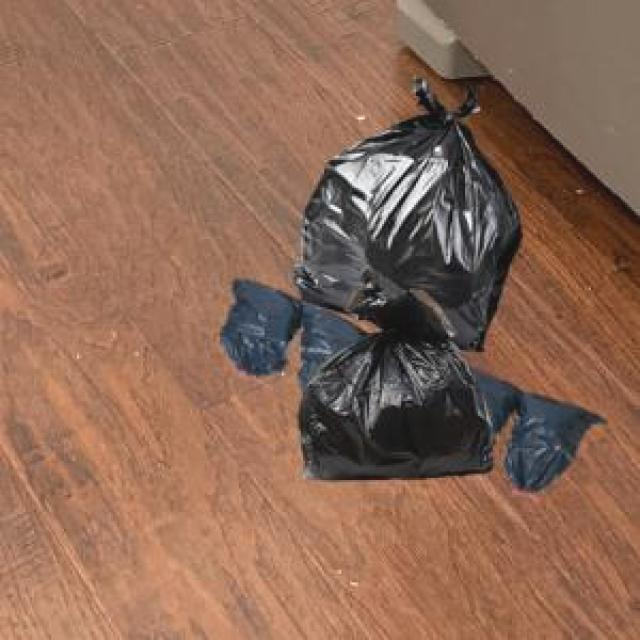Trashbag: (303, 70, 534, 310), (288, 292, 498, 483), (490, 378, 610, 498), (217, 276, 308, 381)
